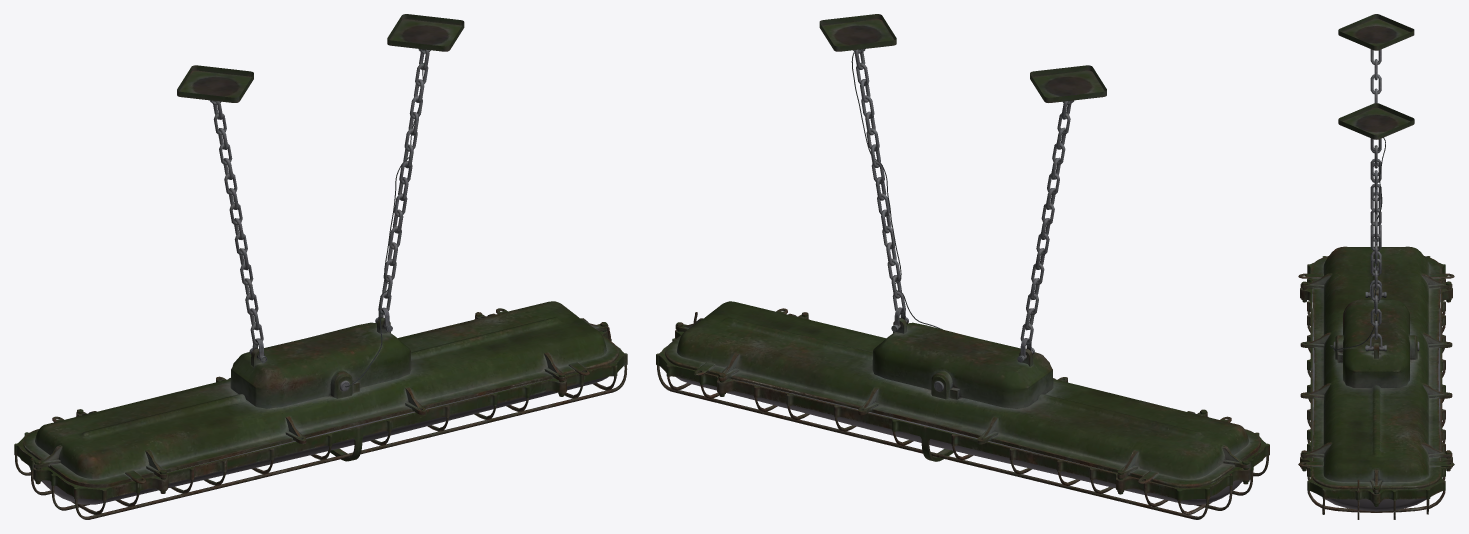
The model's file is caged_hanging_light.glb.
3 renders of one model, left to right at view 1: azimuth 30°, elevation 25°; view 2: azimuth 150°, elevation 25°; view 3: azimuth 270°, elevation 25°, orthographic. The views are drawn at different scales.
Visible parts, largest first — view 1: caged_hanging_light; view 2: caged_hanging_light; view 3: caged_hanging_light.
Part boxes in pixels (<box>): caged_hanging_light: <box>14,14,627,519</box>; caged_hanging_light: <box>656,14,1269,519</box>; caged_hanging_light: <box>1298,14,1454,519</box>.
Bounding box in the file's own units: 1.16 × 0.7501 × 0.3149.
1 material, 1 textured.
